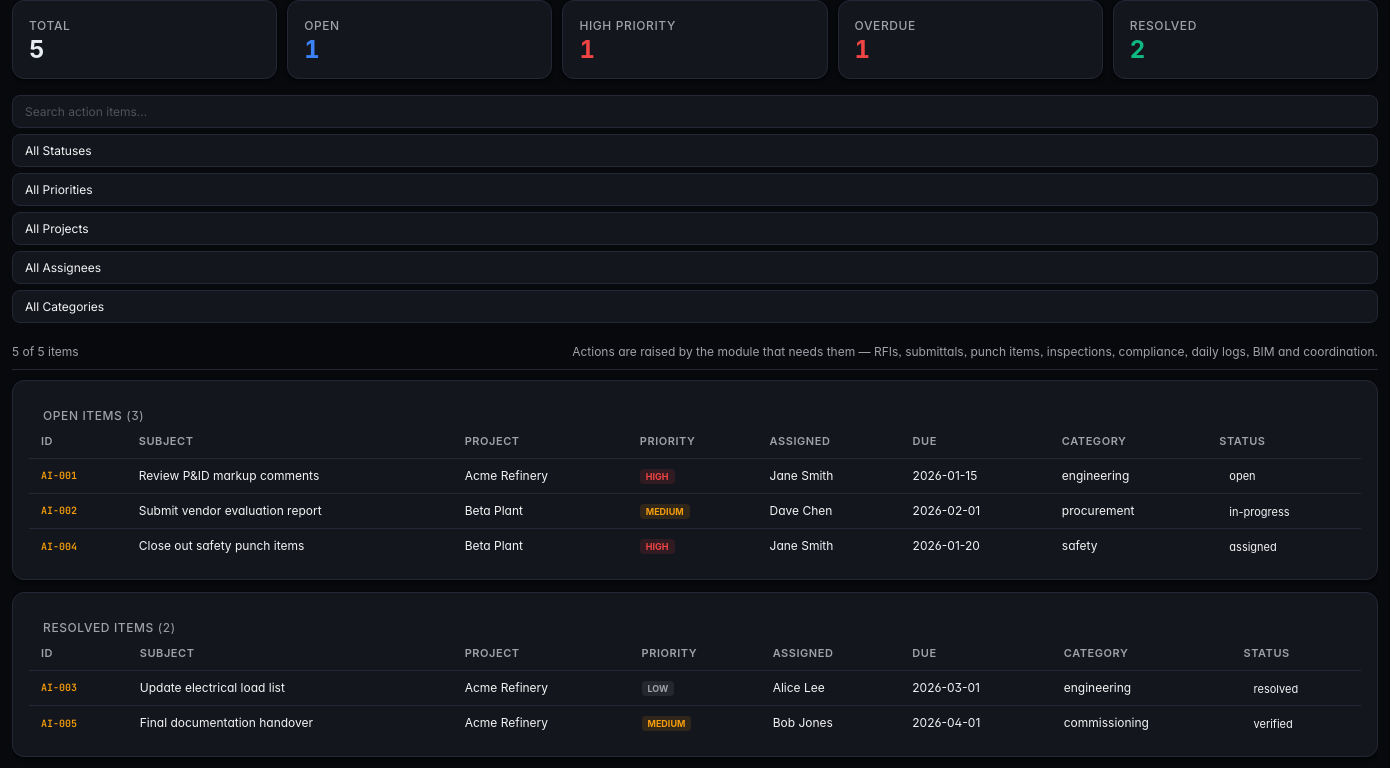
Test: ActionItemsView — filters › priority filter shows only matching items
The width and height of the screenshot is (1390, 768).
Select "high" in the dropdown named "filter by priority" at (695, 190), box x1=12 y1=173 x2=1378 y2=206
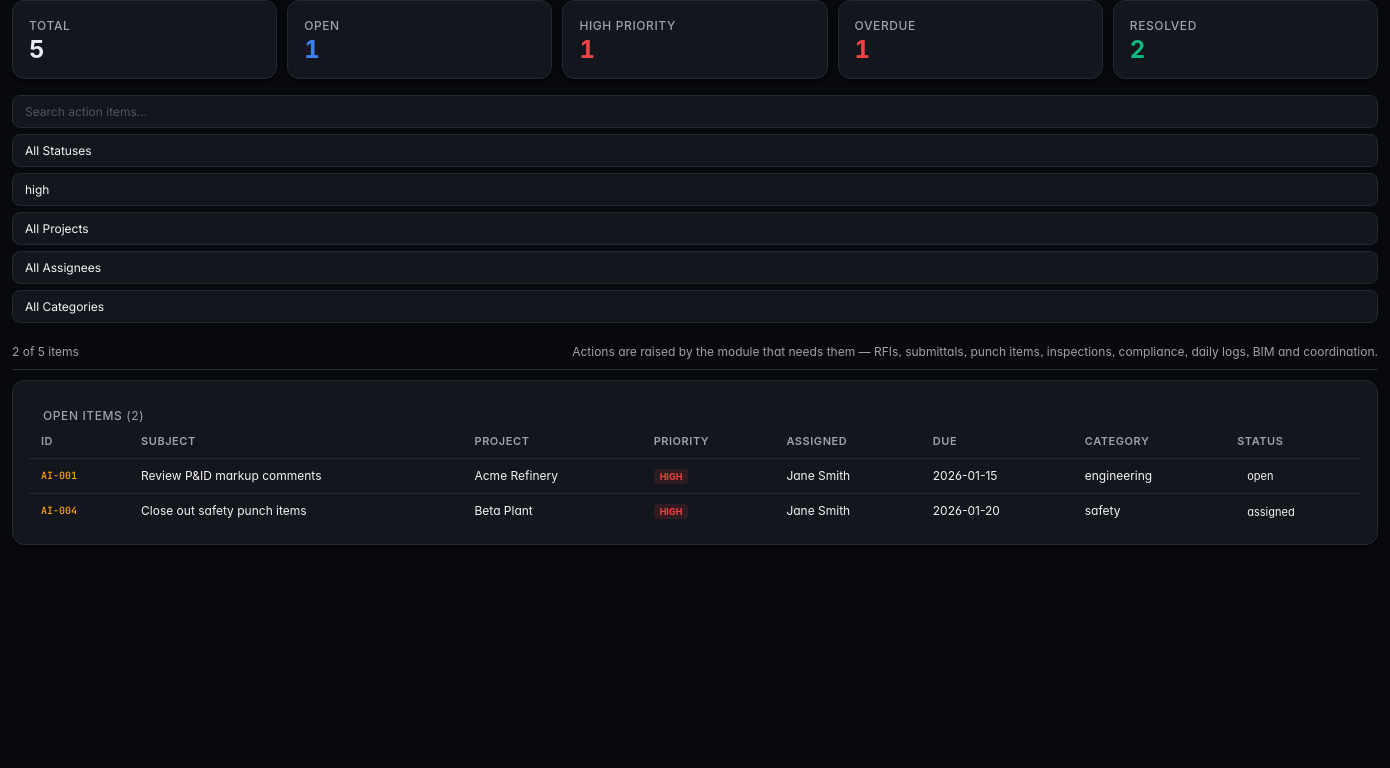
Expected: the text "AI-001" is shown, x1=29 y1=458 x2=129 y2=493
Result: the text "AI-003" is gone
